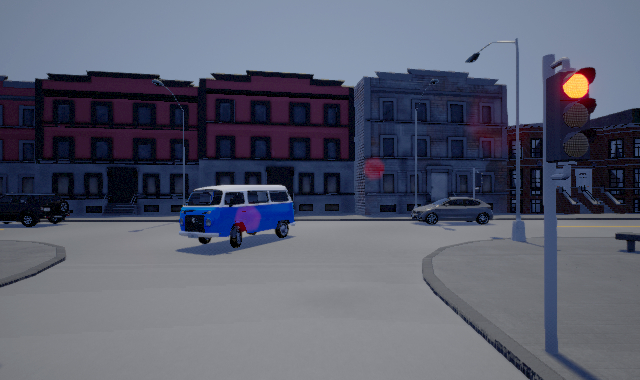traffic_light: (546, 65, 597, 162)
vehicle: (179, 185, 296, 248), (1, 192, 70, 227), (411, 197, 493, 225)
